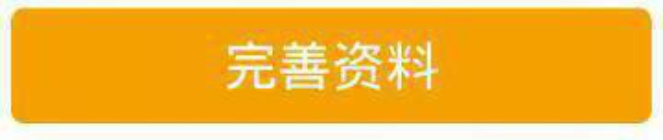Button: (1, 1, 662, 139)
